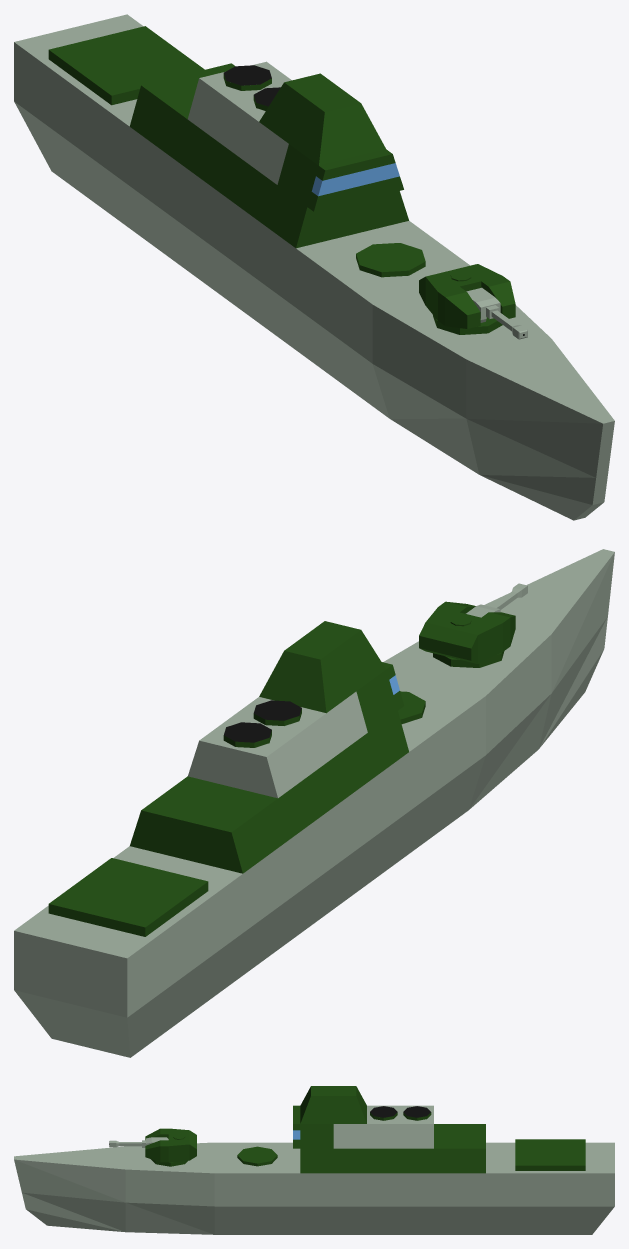
The model's file is combat_fregatte_1.eK6i6tYJ.glb.
3 views of the same model, one above another, from view 1: azimuth 30°, elevation 25°; view 2: azimuth 150°, elevation 25°; view 3: azimuth 270°, elevation 25° (orthographic). The views are drawn at different scales.
Parts seen in each view (by area): view 1: base, turretbase_1_base; view 2: base, turretbase_1_base; view 3: base, turretbase_1_base.
Boxes of the visible parts, x1,y1,x2,y2 form: base: [14, 14, 614, 520]; turretbase_1_base: [419, 264, 515, 328]; base: [14, 549, 614, 1057]; turretbase_1_base: [419, 601, 515, 663]; base: [14, 1086, 614, 1234]; turretbase_1_base: [145, 1128, 196, 1162].
Size of the model in its own units: 0.4636 by 0.932 by 3.81.
